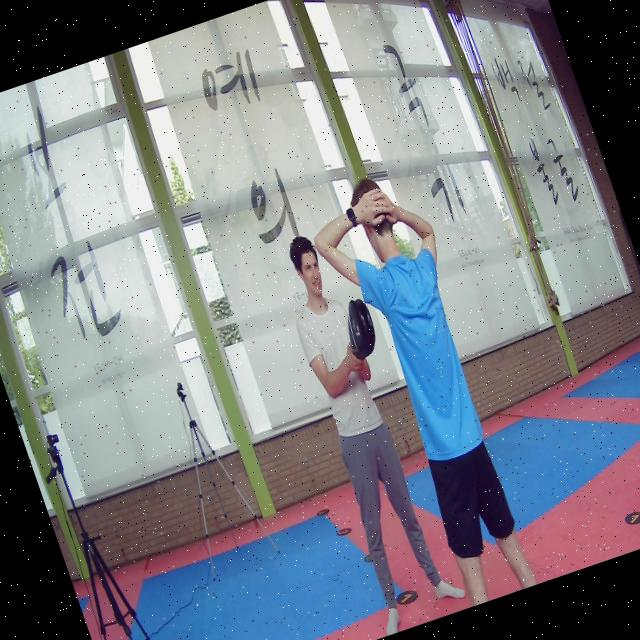paddle: (347, 297, 376, 359)
